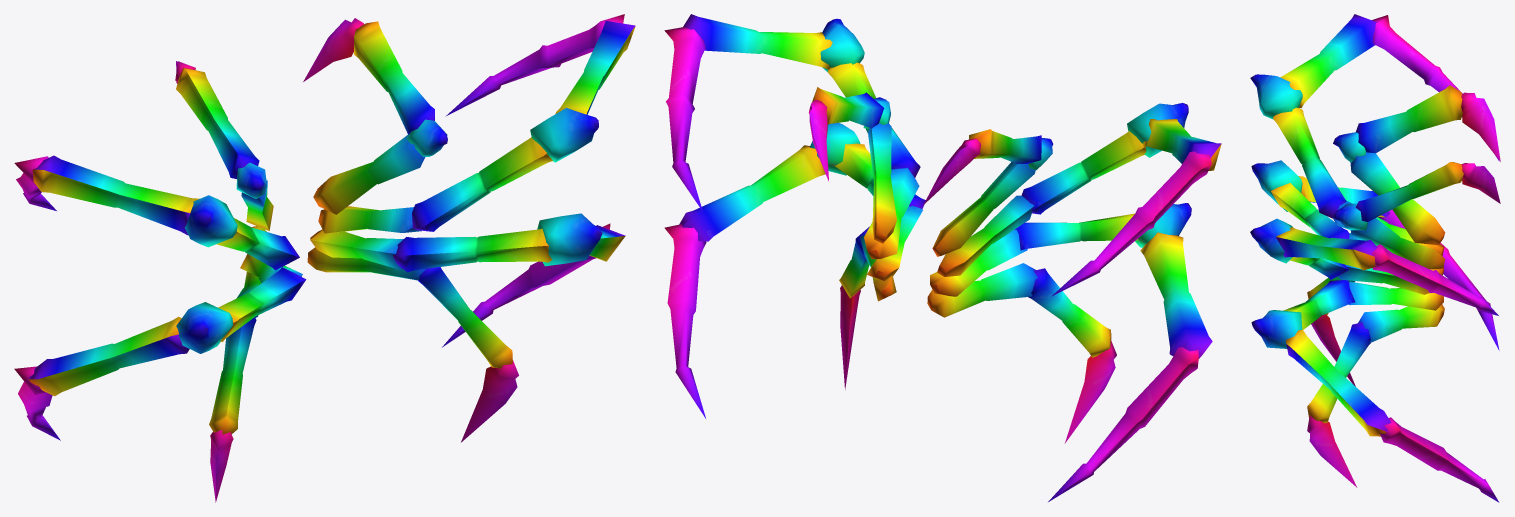
3 views of the same model, side by side, from view 1: azimuth 30°, elevation 25°; view 2: azimuth 150°, elevation 25°; view 3: azimuth 270°, elevation 25° (orthographic). The views are drawn at different scales.
Parts seen in each view (by area): view 1: Handle1; view 2: Handle1; view 3: Handle1.
Part boxes in pixels (bbox=[...]): Handle1: bbox=[14, 14, 635, 502]; Handle1: bbox=[664, 14, 1221, 501]; Handle1: bbox=[1250, 14, 1500, 502].
Size of the model in its own units: 9.97 by 6.03 by 4.34.
